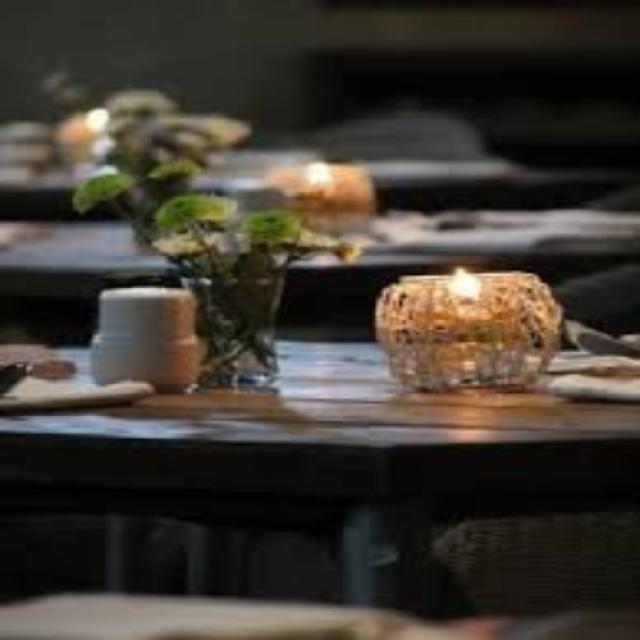Fire: (306, 150, 337, 203), (450, 268, 490, 308), (79, 102, 110, 128)
